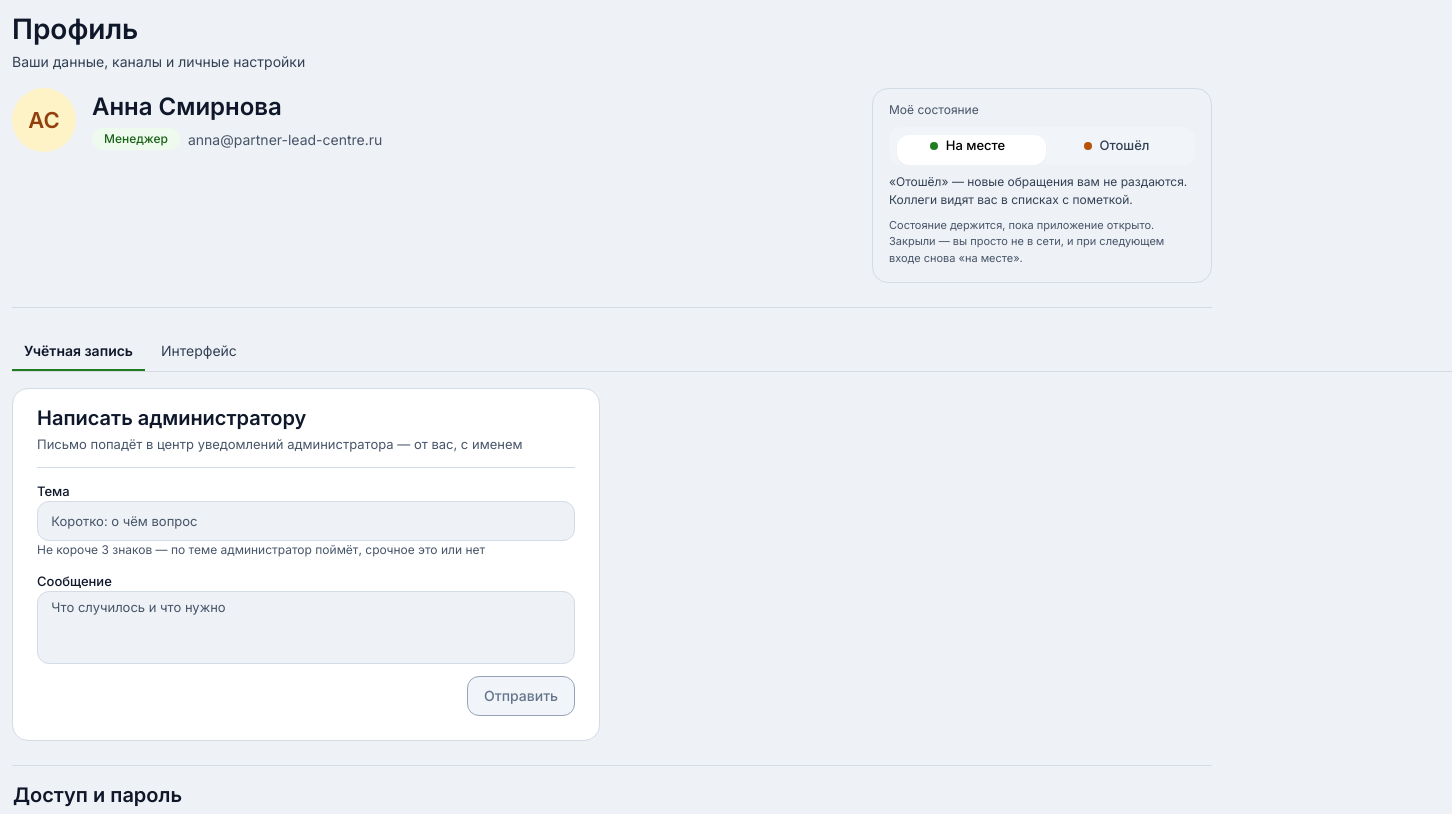
Test: Форма «Написать администратору» (14 §2.2) › 429: показан срок повторной попытки, текст сотрудника не потерян
The width and height of the screenshot is (1452, 814).
In the field labelled "Тема": (306, 521) left=37, top=501, right=575, bottom=541, type "Не работает отправка"
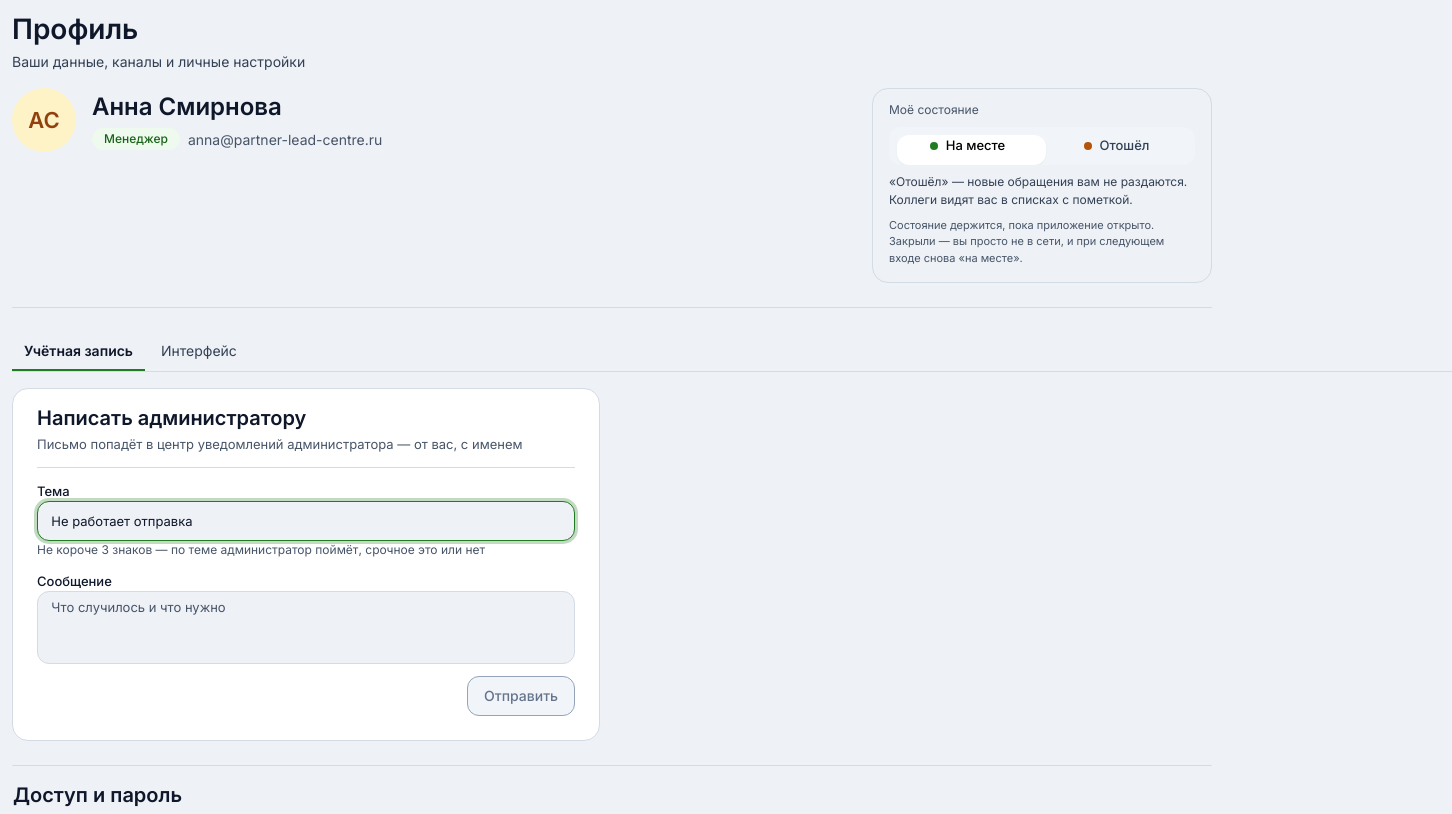
In the text box labelled "Сообщение": (306, 628) left=37, top=591, right=575, bottom=664, type "Второй день не уходят сообщения из диалога"
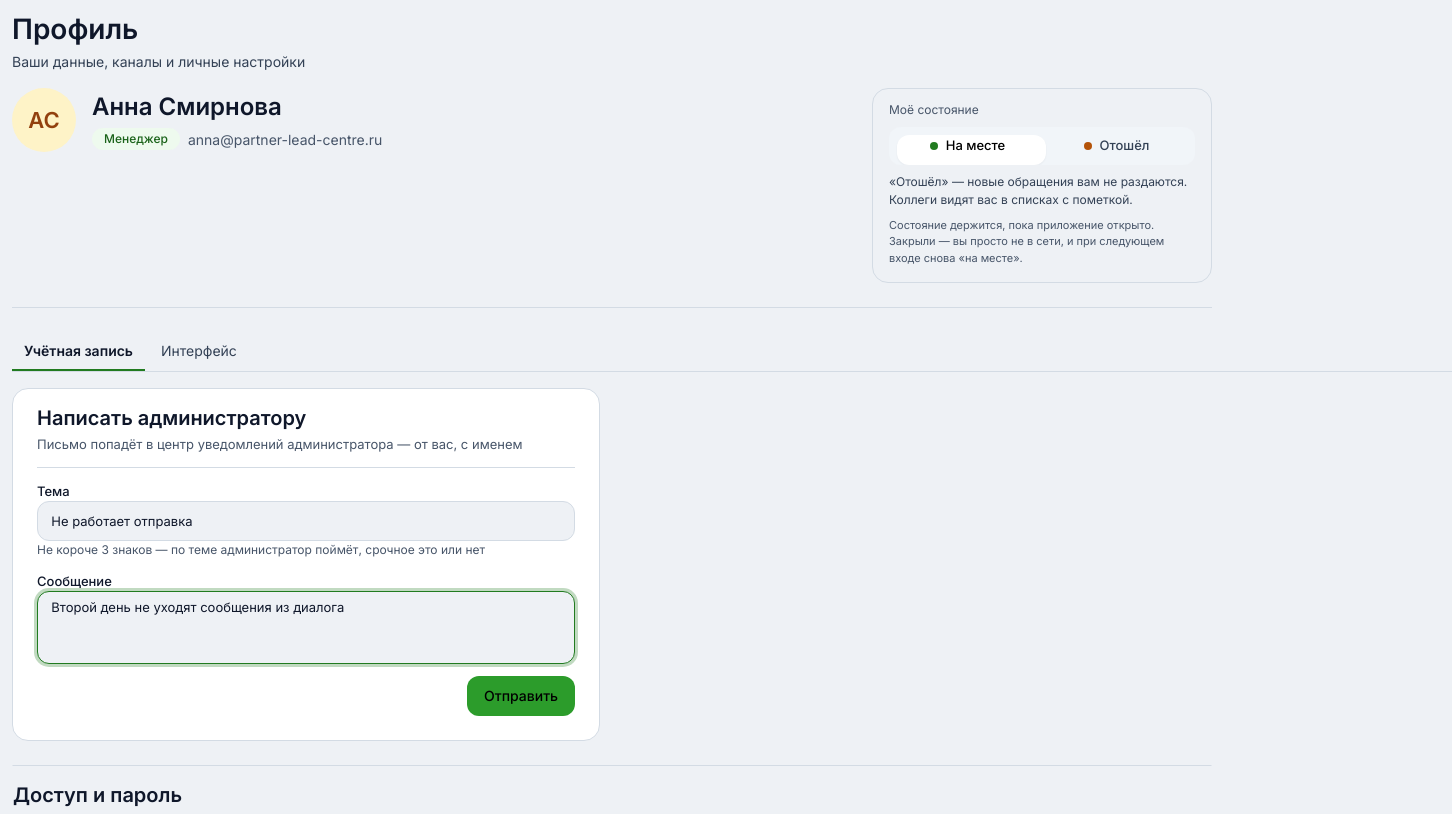
Click the button "Отправить": (521, 696) left=467, top=676, right=575, bottom=716
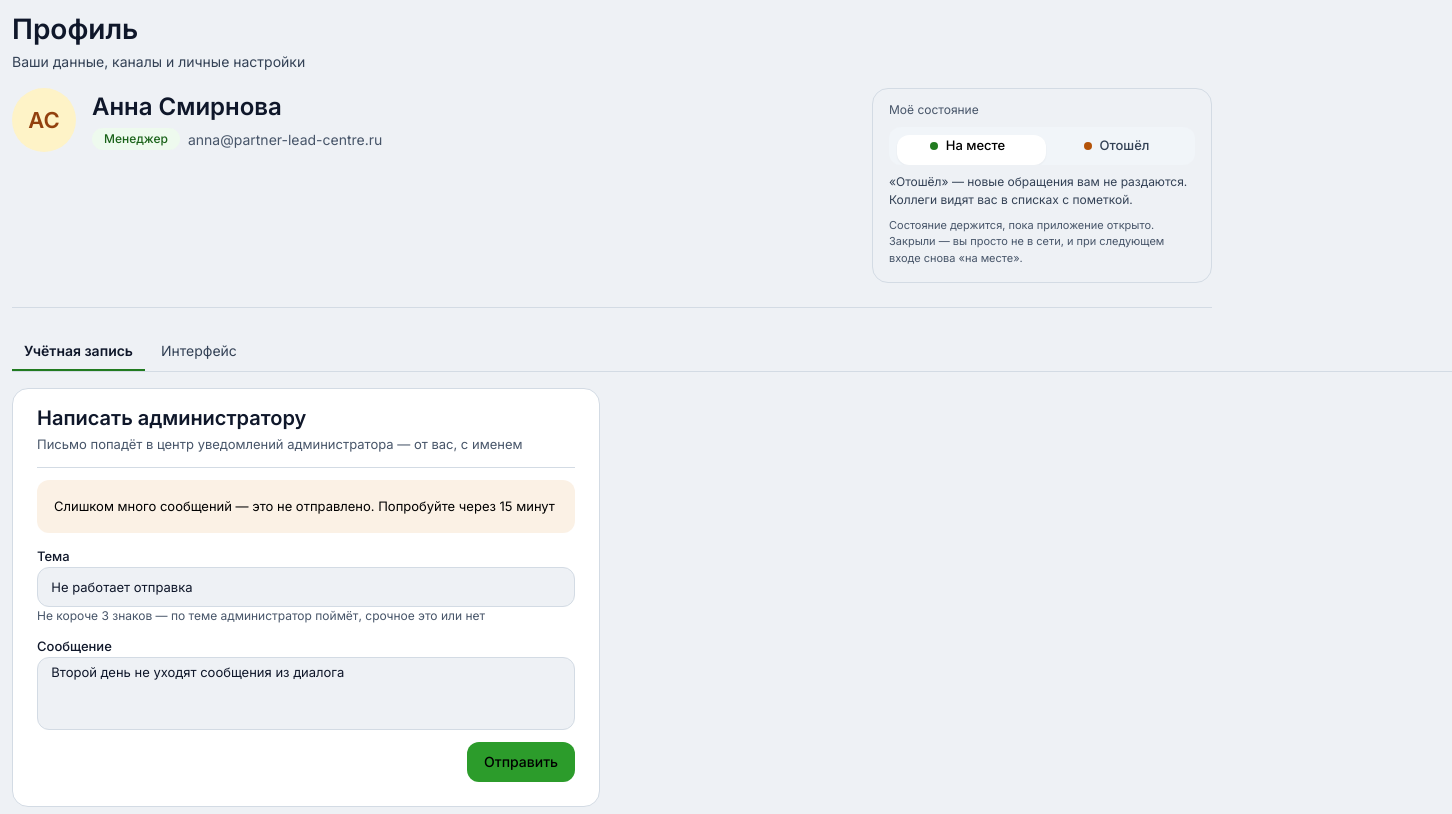
Expected: the text "Попробуйте через 15 минут" is shown, left=54, top=497, right=558, bottom=516
